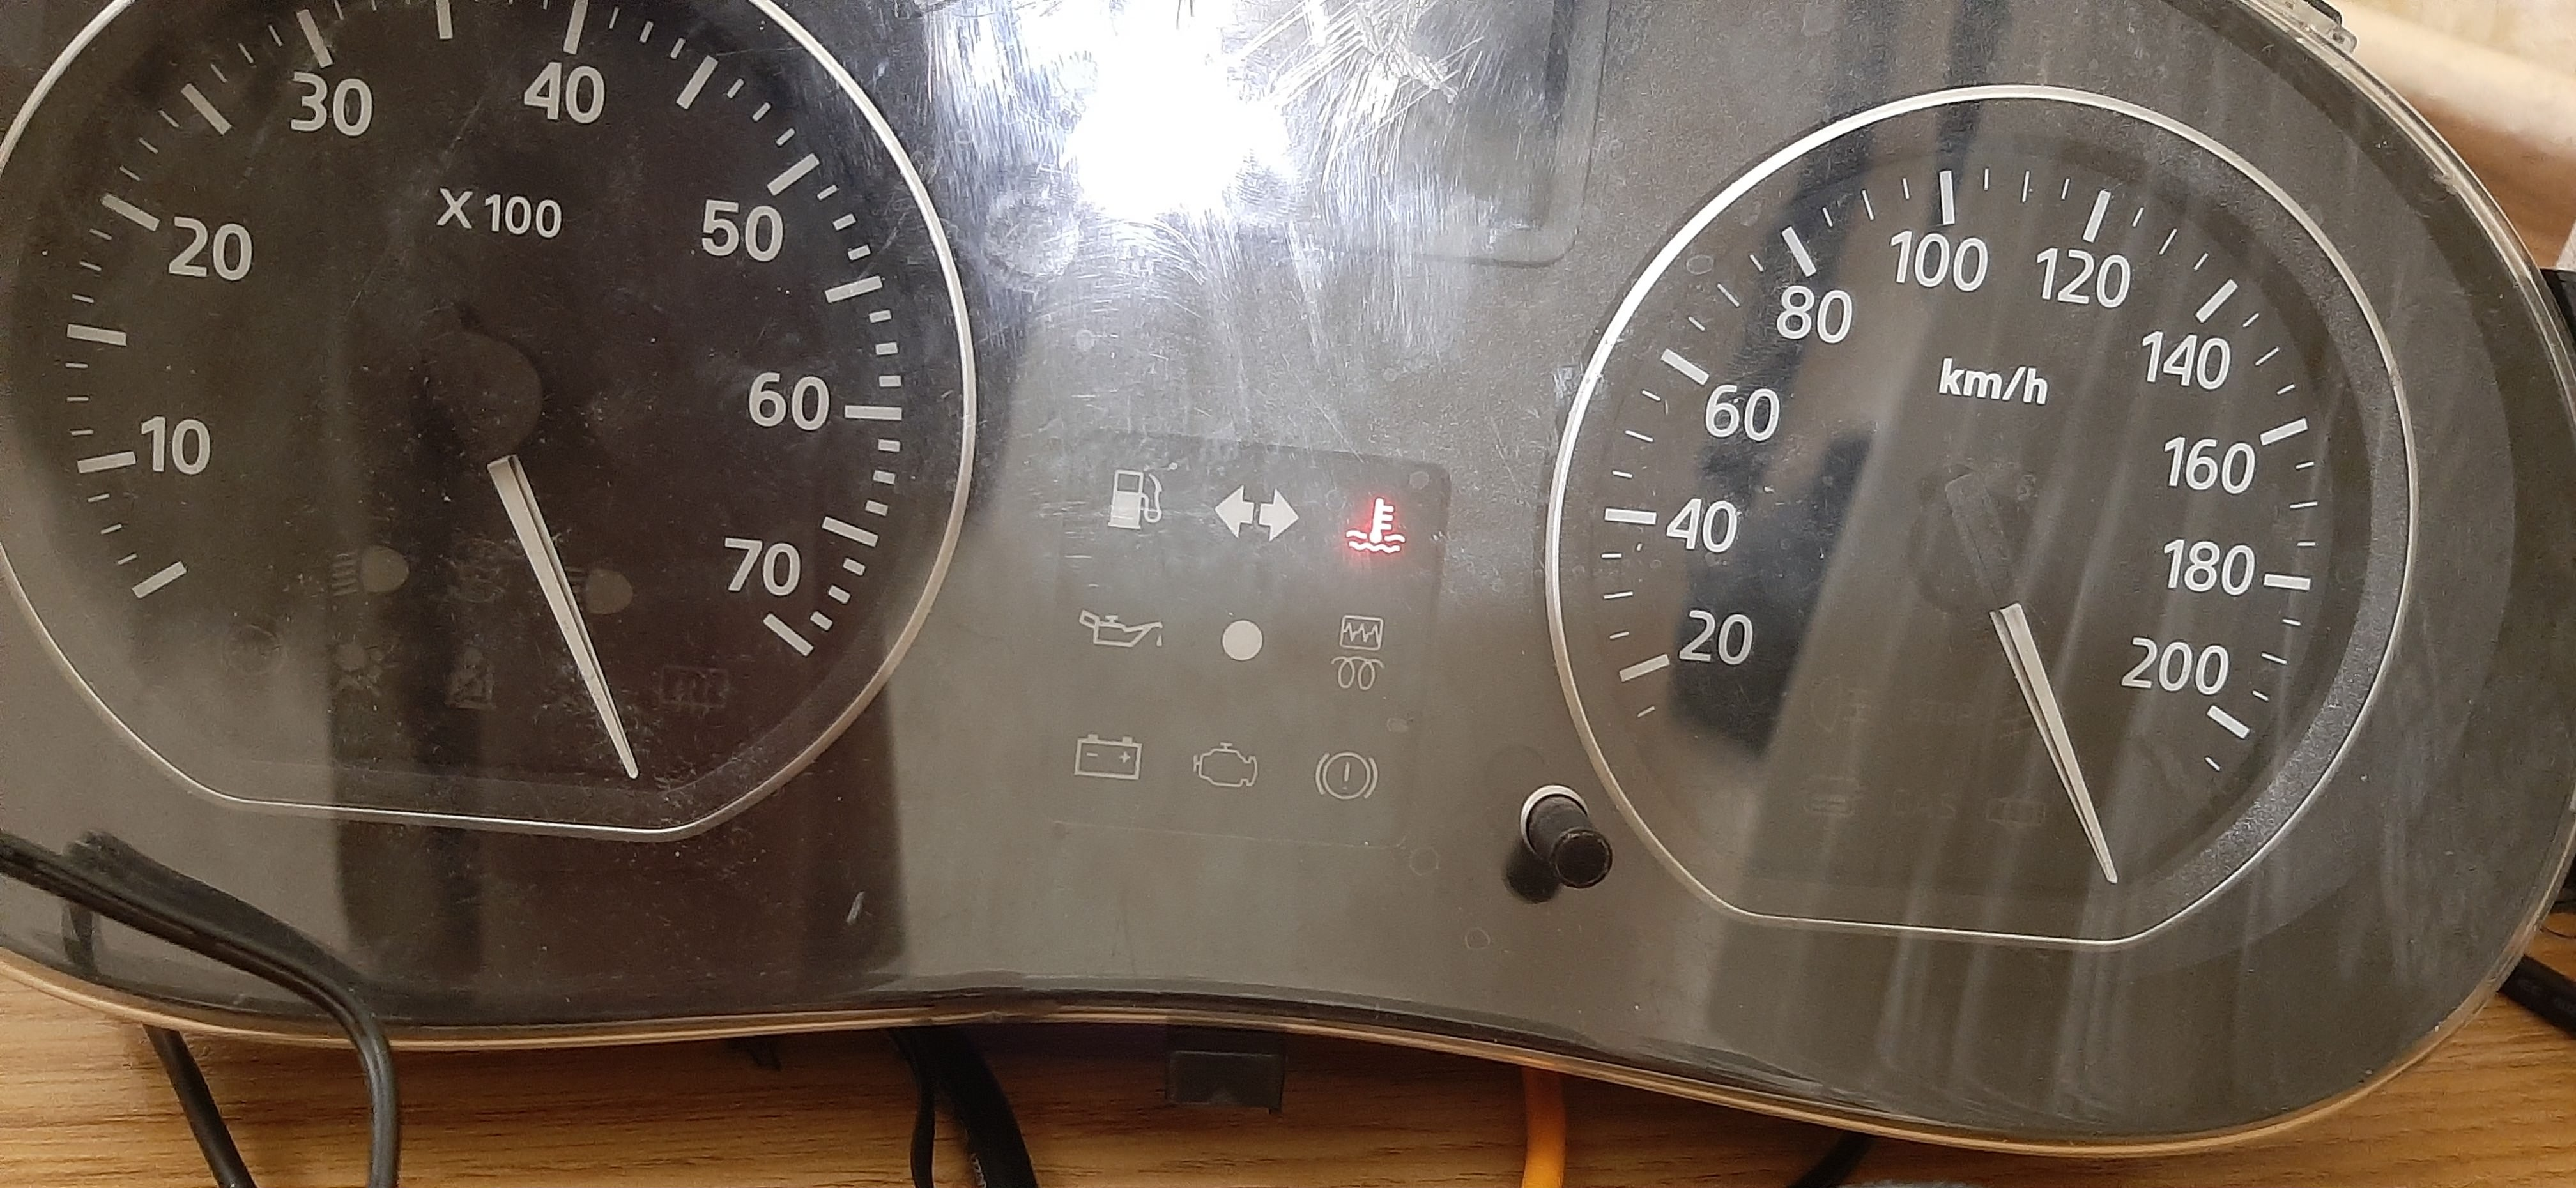Engine Overheating12: (1345, 496, 1408, 555)
